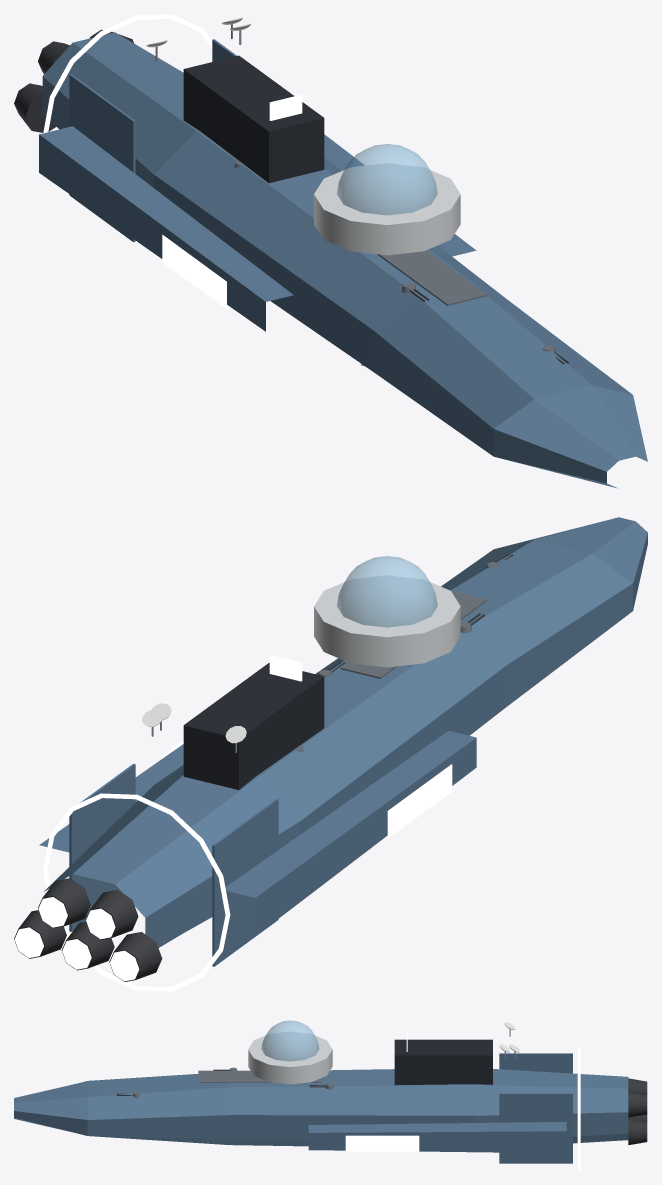
File: space_ship_command_ship_mk6.glb
The picture shows the model from 3 angles, top to bottom: view 1: azimuth 30°, elevation 25°; view 2: azimuth 150°, elevation 25°; view 3: azimuth 270°, elevation 25°; orthographic projection. The views are drawn at different scales.
Visible parts, largest first — view 1: body, hangar_r, engine_0; view 2: body, engine_3, engine_1, engine_0, hangar_r, engine_4, engine_2; view 3: body, hangar_l, engine_4, engine_3, engine_1.
Boxes of the visible parts, bbox=[...] form: body: bbox=[39, 14, 647, 488]; hangar_r: bbox=[162, 235, 226, 308]; engine_0: bbox=[14, 83, 56, 132]; body: bbox=[39, 517, 647, 991]; engine_3: bbox=[38, 878, 90, 928]; engine_1: bbox=[85, 890, 138, 939]; engine_0: bbox=[109, 932, 162, 981]; hangar_r: bbox=[387, 764, 452, 838]; engine_4: bbox=[14, 910, 66, 958]; engine_2: bbox=[61, 921, 114, 970]; body: bbox=[14, 1020, 628, 1170]; hangar_l: bbox=[345, 1135, 419, 1151]; engine_4: bbox=[628, 1119, 647, 1145]; engine_3: bbox=[628, 1092, 647, 1117]; engine_1: bbox=[628, 1078, 647, 1095].
Size of what is drawn, in the model's own units: 31.34 by 32.6 by 132.
